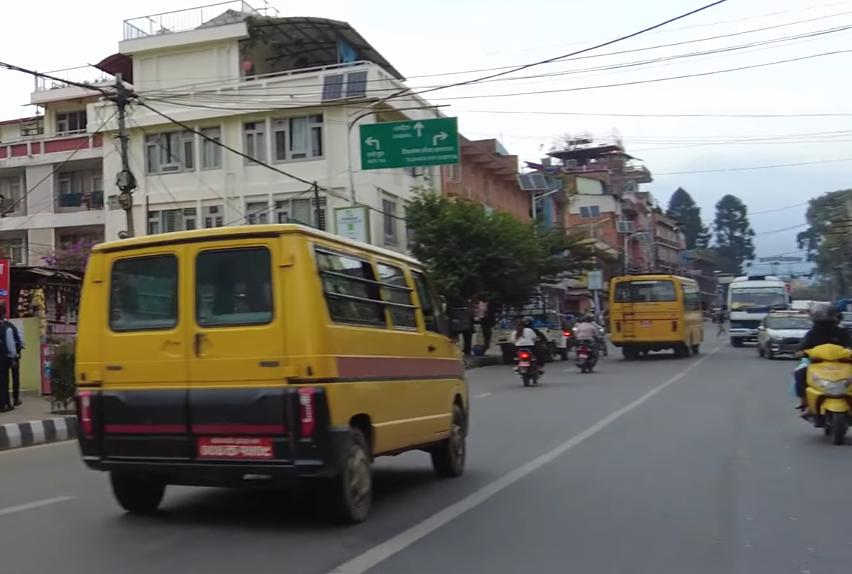bike: (571, 328, 608, 376), (512, 337, 545, 387)
bus: (725, 271, 791, 347)
school_bus: (67, 219, 479, 525), (608, 272, 711, 362)
scooter: (794, 342, 852, 440)
taxi: (758, 307, 821, 359)
